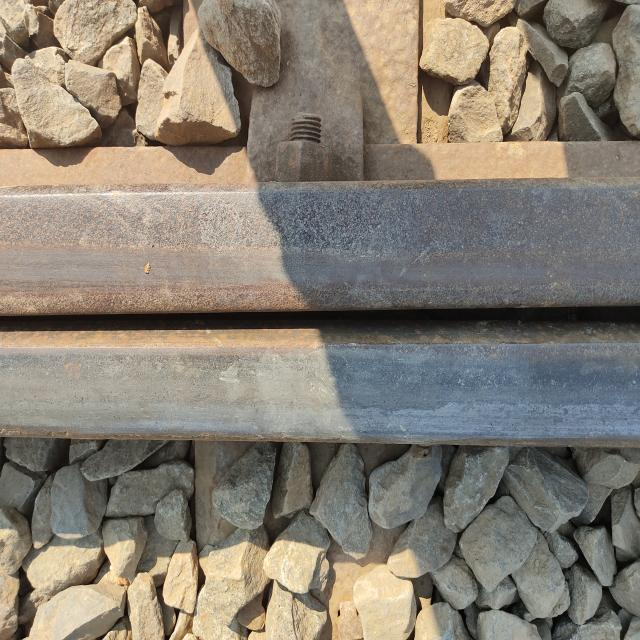non-defective: (96, 143, 482, 492)
